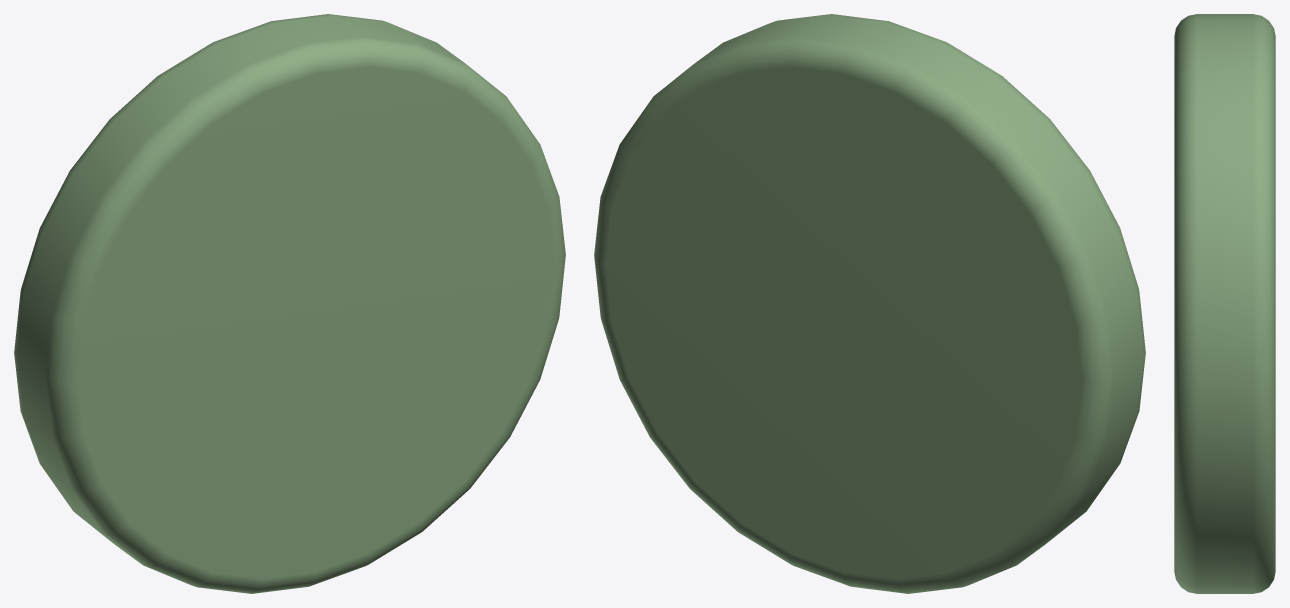
File: Score_A.fbx
3 views of the same model, side by side, from view 1: azimuth 30°, elevation 25°; view 2: azimuth 150°, elevation 25°; view 3: azimuth 270°, elevation 25° (orthographic). The views are drawn at different scales.
Parts seen in each view (by area): view 1: Score_A; view 2: Score_A; view 3: Score_A.
Boxes of the visible parts, x1=… form: Score_A: x1=14, y1=14, x2=565, y2=593; Score_A: x1=594, y1=14, x2=1145, y2=593; Score_A: x1=1174, y1=14, x2=1275, y2=593.
Bounding box in the file's own units: 31.74 × 31.74 × 5.56.
